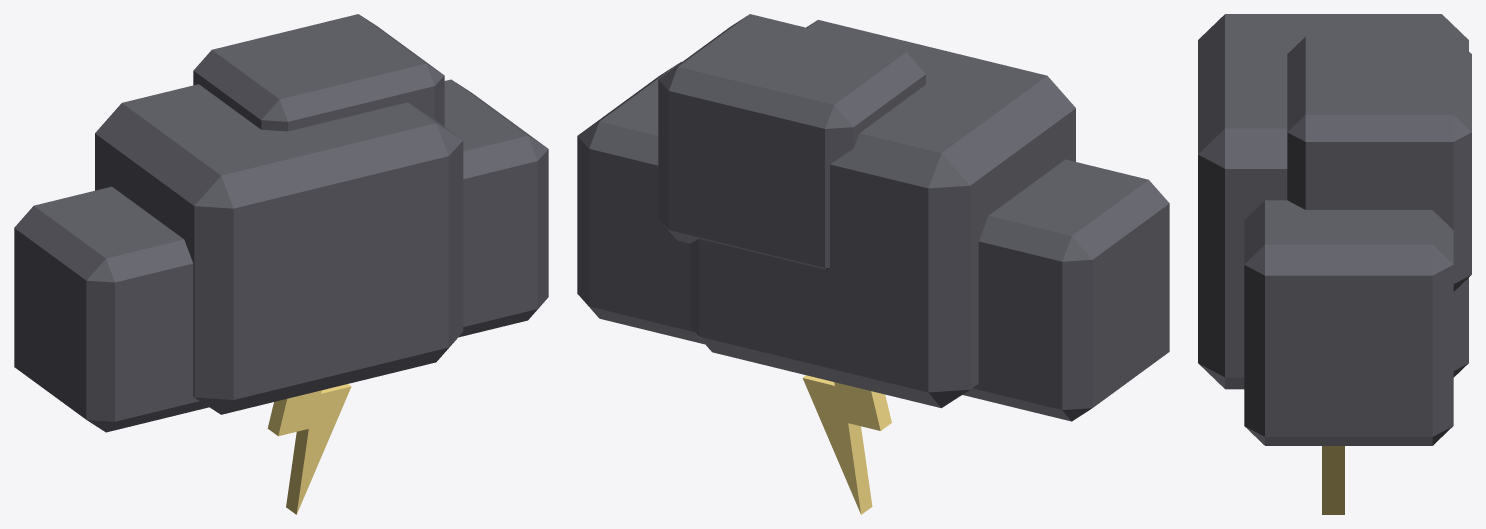
Rendered from StormCloud.fbx.
3 views of the same model, side by side, from view 1: azimuth 30°, elevation 25°; view 2: azimuth 150°, elevation 25°; view 3: azimuth 270°, elevation 25° (orthographic). The views are drawn at different scales.
Parts seen in each view (by area): view 1: StormCloud; view 2: StormCloud; view 3: StormCloud.
Part boxes in pixels (x1=…): StormCloud: x1=14, y1=14, x2=548, y2=514; StormCloud: x1=577, y1=14, x2=1169, y2=514; StormCloud: x1=1198, y1=14, x2=1471, y2=514.
Bounding box in the file's own units: 7.7 × 6.68 × 3.56.
Materials: 1 (1 with a texture image).
